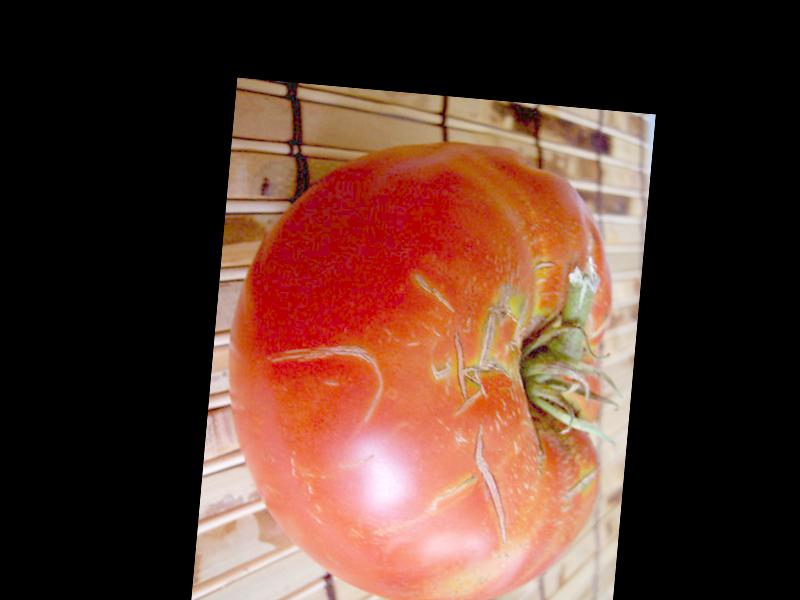Tomato: (214, 124, 629, 600)
